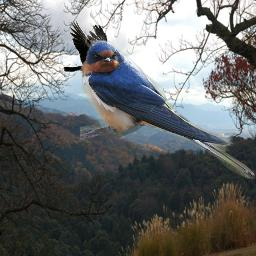Crow: (63, 20, 108, 88)
Swallow: (80, 40, 255, 179)
